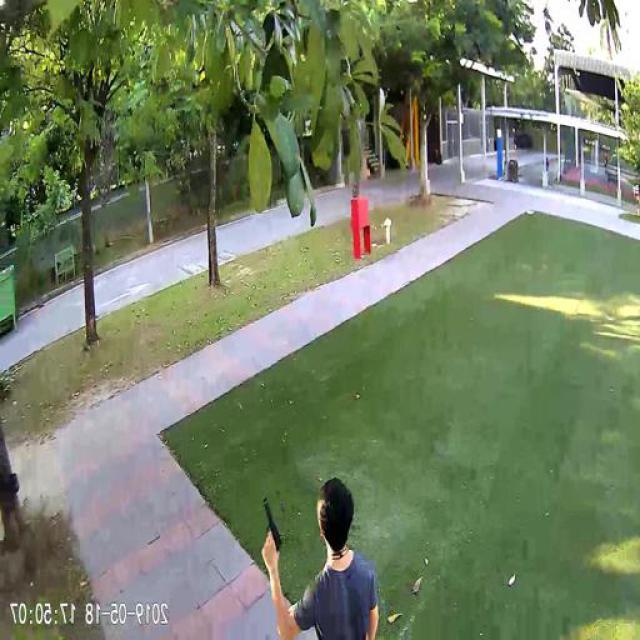Gun: (265, 494, 285, 548)
